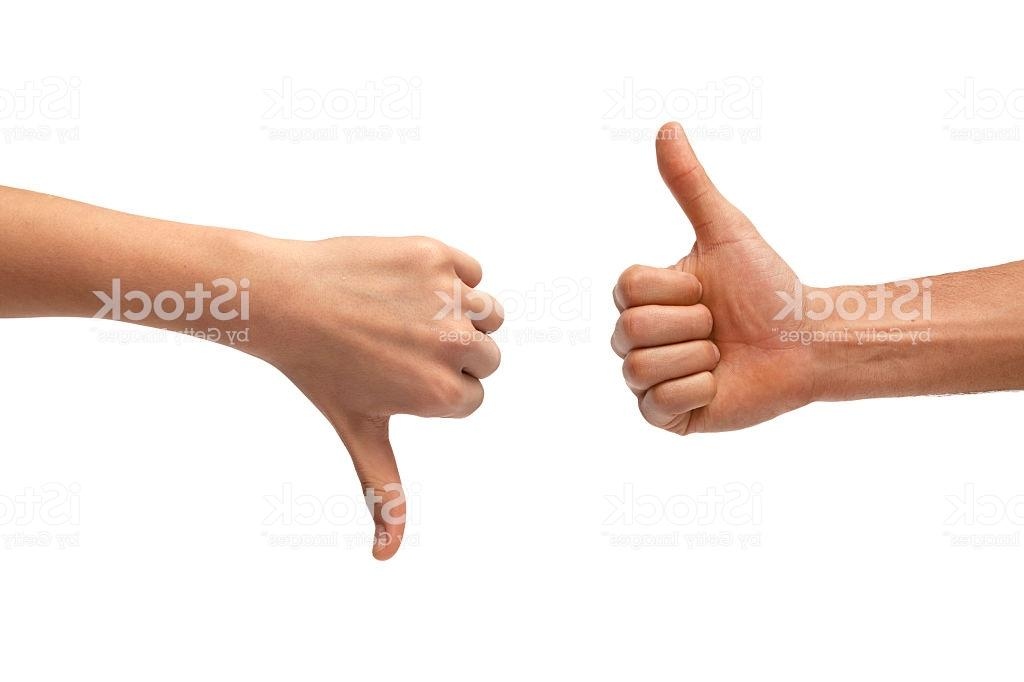thumbsup: (608, 117, 810, 436)
